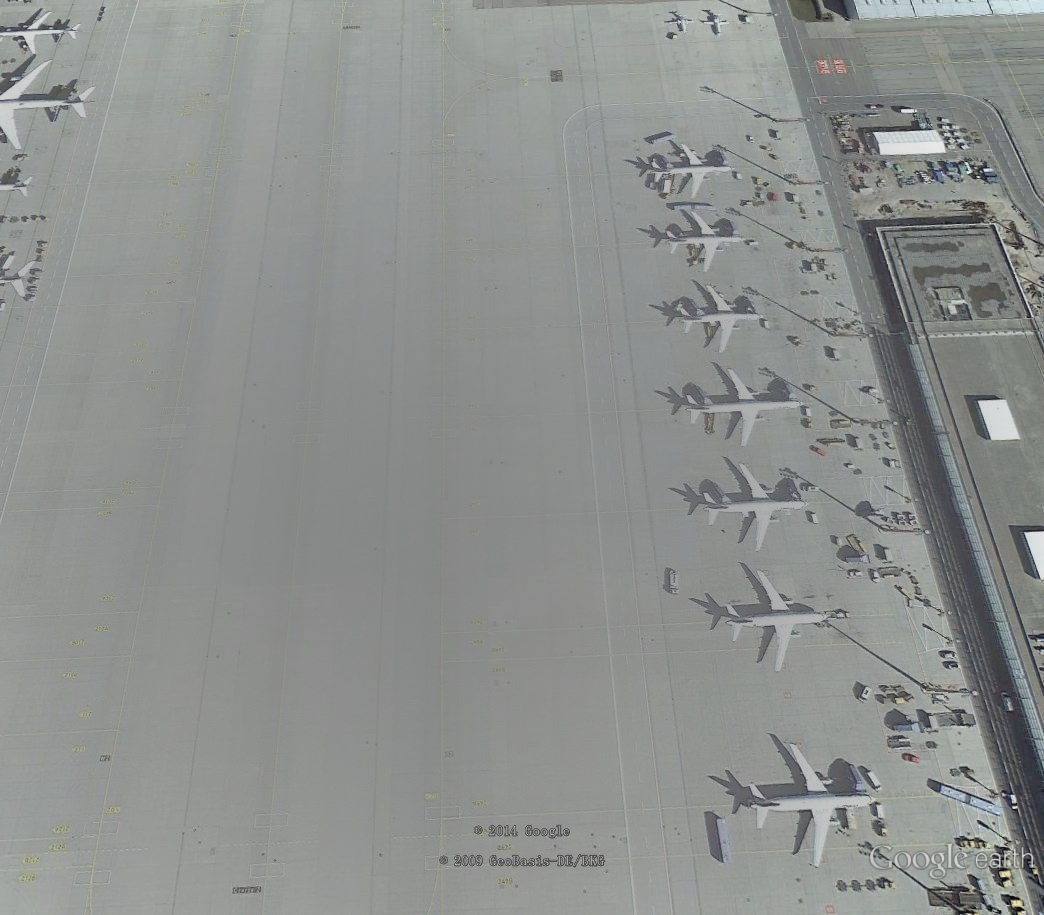aircraft: (741, 741, 885, 876), (715, 565, 831, 681), (693, 460, 816, 558), (670, 367, 811, 450), (1, 55, 102, 154), (667, 282, 772, 360), (657, 205, 754, 279), (642, 139, 742, 202), (3, 6, 88, 55), (697, 10, 736, 42), (664, 10, 702, 39)
